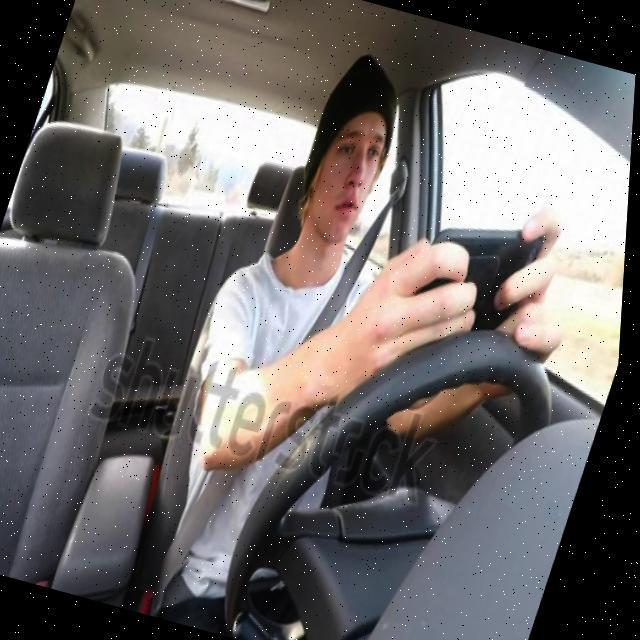PhoneCall: (408, 204, 550, 338)
